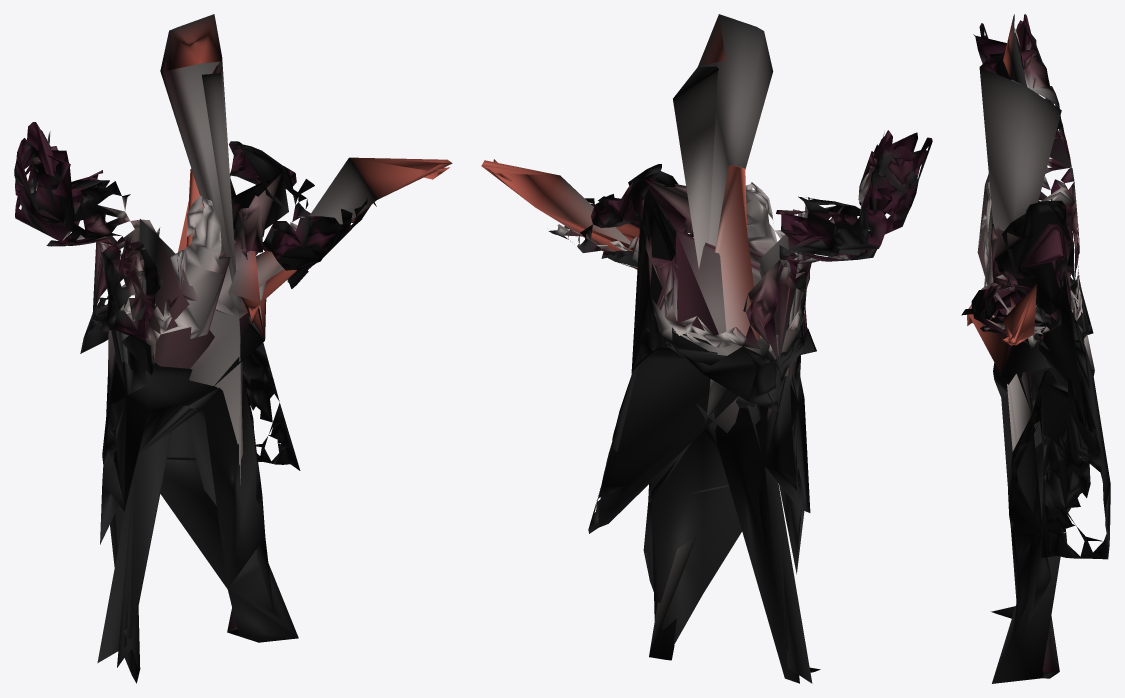
Rendered from gen3d-stage-magician-lod0.glb.
The picture shows the model from 3 angles, left to right: view 1: azimuth 30°, elevation 25°; view 2: azimuth 150°, elevation 25°; view 3: azimuth 270°, elevation 25°; orthographic projection. The views are drawn at different scales.
Parts seen in each view (by area): view 1: part_0; view 2: part_0; view 3: part_0.
Boxes of the visible parts, bbox=[...] form: part_0: bbox=[14, 14, 452, 683]; part_0: bbox=[481, 14, 932, 683]; part_0: bbox=[961, 14, 1110, 683].
Bounding box in the file's own units: 0.7054 × 1 × 0.2161.
